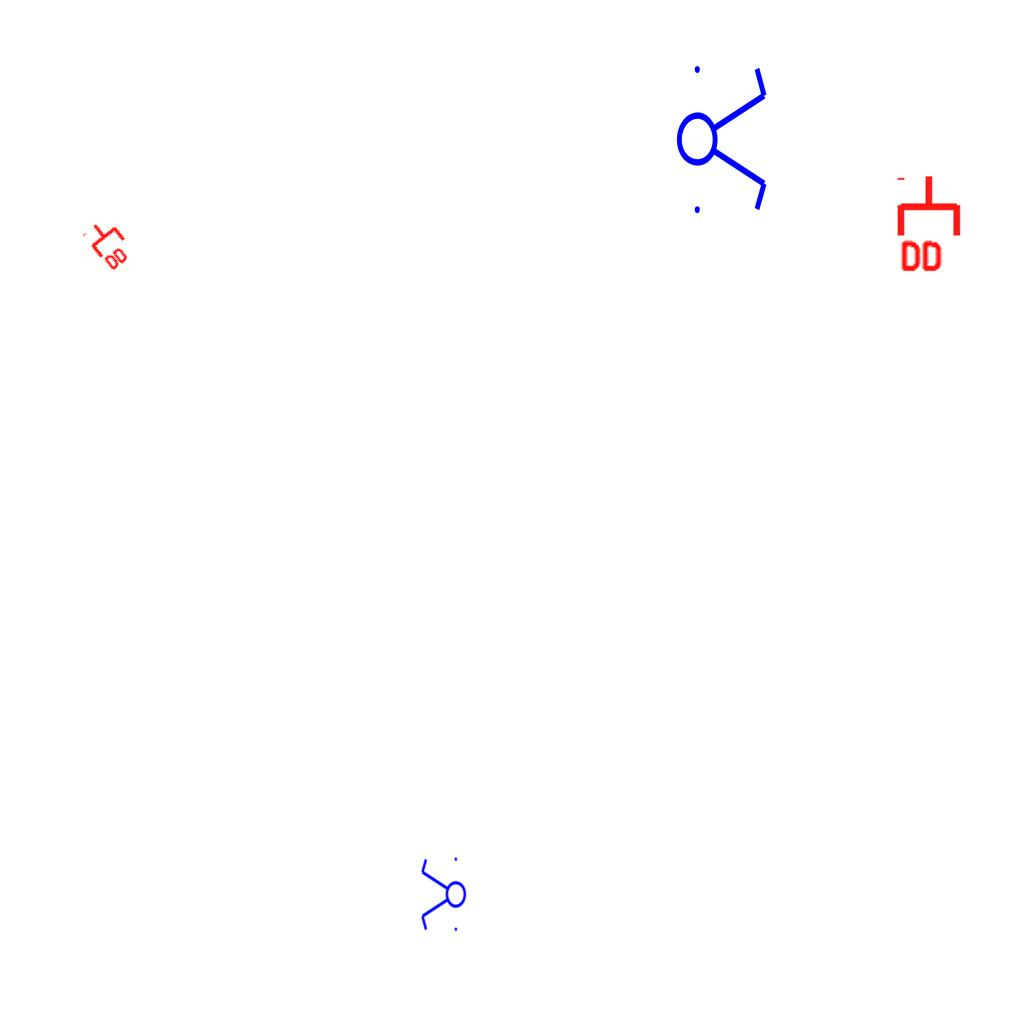Datenanschluss_zweifach: (896, 173, 965, 276), (80, 212, 140, 275)
Serienschalter: (675, 54, 771, 222), (419, 853, 467, 937)
